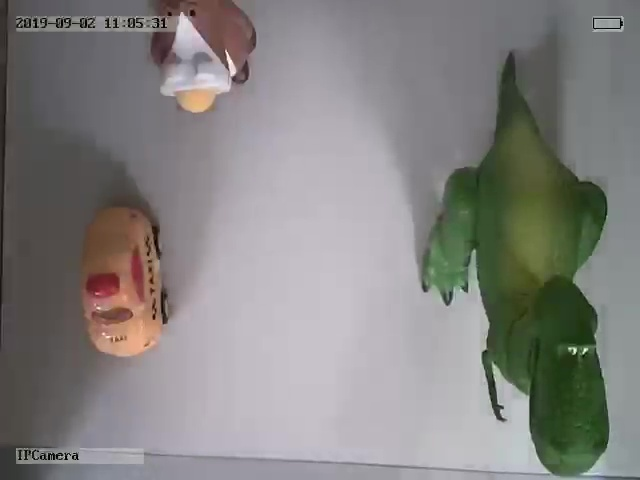car: (78, 205, 169, 359)
rex: (422, 101, 610, 478)
